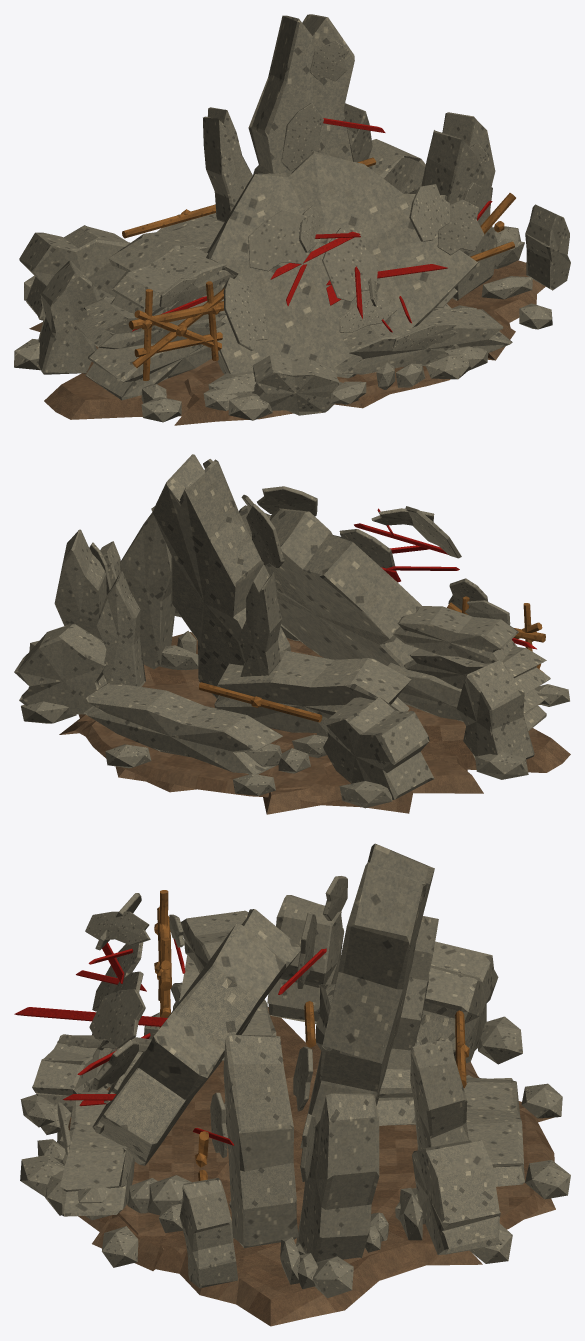
The model's file is SM_GIA_BloodAxeCairnTarget_A1_A01_LOD0.fbx.
The picture shows the model from 3 angles, top to bottom: view 1: azimuth 30°, elevation 25°; view 2: azimuth 150°, elevation 25°; view 3: azimuth 270°, elevation 25°; orthographic projection. The views are drawn at different scales.
Visible parts, largest first — view 1: LOD0_Stone_DominantDiagonalFrontSlab, LOD0_Stone_TallRearOathSlab, LOD0_IrregularMudAshTerrainContact, LOD0_Stone_FrontBrokenFootStone, LOD0_Stone_BackLeftButtressShard, LOD0_Stone_LeftBackBrokenShard, LOD0_Stone_RightUprightSupportStone, LOD0_Stone_LeftBundledStackTopSlab, LOD0_Stone_FrontLeftGroundShard, LOD0_Stone_LeftBundledStackLowSlab, LOD0_Stone_RearNeedleShardLeft, LOD0_Stone_LeftBundledStackMidSlab (+37 smaller); view 2: LOD0_Stone_DominantDiagonalFrontSlab, LOD0_Stone_TallRearOathSlab, LOD0_IrregularMudAshTerrainContact, LOD0_Stone_RearGroundLockStone, LOD0_Stone_RearLowCounterweight, LOD0_Stone_BackLeftButtressShard, LOD0_RearAshAndStoneScatter, LOD0_Stone_BackRightButtressShard, LOD0_Stone_LeftBackBrokenShard, LOD0_Stone_RightUprightSupportStone, LOD0_Stone_LeftBundledStackTopSlab, LOD0_Stone_RearNeedleShardRight (+24 smaller); view 3: LOD0_Stone_DominantDiagonalFrontSlab, LOD0_Stone_TallRearOathSlab, LOD0_IrregularMudAshTerrainContact, LOD0_Stone_RightUprightSupportStone, LOD0_Stone_RightRearSupportStone, LOD0_Stone_BackRightButtressShard, LOD0_Stone_BackLeftButtressShard, LOD0_RearAshAndStoneScatter, LOD0_Stone_FrontBrokenFootStone, LOD0_FrontBrokenMudLip, LOD0_Stone_RearNeedleShardRight, LOD0_Stone_LeftBackBrokenShard (+31 smaller).
Boxes of the visible parts, x1=… form: LOD0_Stone_DominantDiagonalFrontSlab: x1=206, y1=151, x2=477, y2=378; LOD0_Stone_TallRearOathSlab: x1=248, y1=14, x2=354, y2=174; LOD0_IrregularMudAshTerrainContact: x1=29, y1=260, x2=545, y2=419; LOD0_Stone_FrontBrokenFootStone: x1=335, y1=308, x2=512, y2=374; LOD0_Stone_BackLeftButtressShard: x1=19, y1=225, x2=129, y2=320; LOD0_Stone_LeftBackBrokenShard: x1=38, y1=260, x2=98, y2=374; LOD0_Stone_RightUprightSupportStone: x1=421, y1=130, x2=497, y2=300; LOD0_Stone_LeftBundledStackTopSlab: x1=111, y1=244, x2=230, y2=315; LOD0_Stone_FrontLeftGroundShard: x1=252, y1=354, x2=339, y2=415; LOD0_Stone_LeftBundledStackLowSlab: x1=85, y1=344, x2=211, y2=400; LOD0_Stone_RearNeedleShardLeft: x1=203, y1=107, x2=252, y2=222; LOD0_Stone_LeftBundledStackMidSlab: x1=75, y1=295, x2=225, y2=349; LOD0_Stone_DominantDiagonalFrontSlab: x1=239, y1=505, x2=421, y2=666; LOD0_Stone_TallRearOathSlab: x1=151, y1=454, x2=290, y2=698; LOD0_IrregularMudAshTerrainContact: x1=59, y1=632, x2=570, y2=814; LOD0_Stone_RearGroundLockStone: x1=84, y1=683, x2=282, y2=774; LOD0_Stone_RearLowCounterweight: x1=214, y1=650, x2=411, y2=732; LOD0_Stone_BackLeftButtressShard: x1=323, y1=697, x2=434, y2=799; LOD0_RearAshAndStoneScatter: x1=82, y1=699, x2=331, y2=797; LOD0_Stone_BackRightButtressShard: x1=14, y1=623, x2=106, y2=714; LOD0_Stone_LeftBackBrokenShard: x1=456, y1=659, x2=534, y2=759; LOD0_Stone_RightUprightSupportStone: x1=119, y1=512, x2=175, y2=669; LOD0_Stone_LeftBundledStackTopSlab: x1=392, y1=606, x2=518, y2=663; LOD0_Stone_RearNeedleShardRight: x1=96, y1=571, x2=145, y2=686; LOD0_Stone_DominantDiagonalFrontSlab: x1=92, y1=909, x2=300, y2=1165; LOD0_Stone_TallRearOathSlab: x1=300, y1=843, x2=434, y2=1148; LOD0_IrregularMudAshTerrainContact: x1=78, y1=1007, x2=555, y2=1326; LOD0_Stone_RightUprightSupportStone: x1=223, y1=1034, x2=298, y2=1248; LOD0_Stone_RightRearSupportStone: x1=296, y1=1093, x2=379, y2=1262; LOD0_Stone_BackRightButtressShard: x1=412, y1=1140, x2=502, y2=1254; LOD0_Stone_BackLeftButtressShard: x1=418, y1=941, x2=498, y2=1063; LOD0_RearAshAndStoneScatter: x1=371, y1=1110, x2=554, y2=1236; LOD0_Stone_FrontBrokenFootStone: x1=60, y1=1092, x2=134, y2=1216; LOD0_FrontBrokenMudLip: x1=68, y1=1073, x2=229, y2=1249; LOD0_Stone_RearNeedleShardRight: x1=410, y1=1039, x2=468, y2=1150; LOD0_Stone_LeftBackBrokenShard: x1=267, y1=895, x2=344, y2=1024.
Size of the model in its own units: 410 by 215 by 303.
